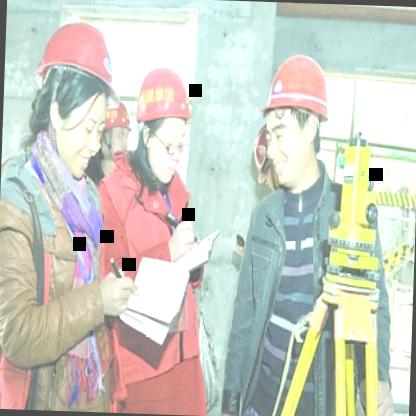helmet: (21, 7, 122, 183), (252, 43, 336, 186), (129, 55, 199, 186), (250, 126, 288, 194), (100, 100, 134, 159)
